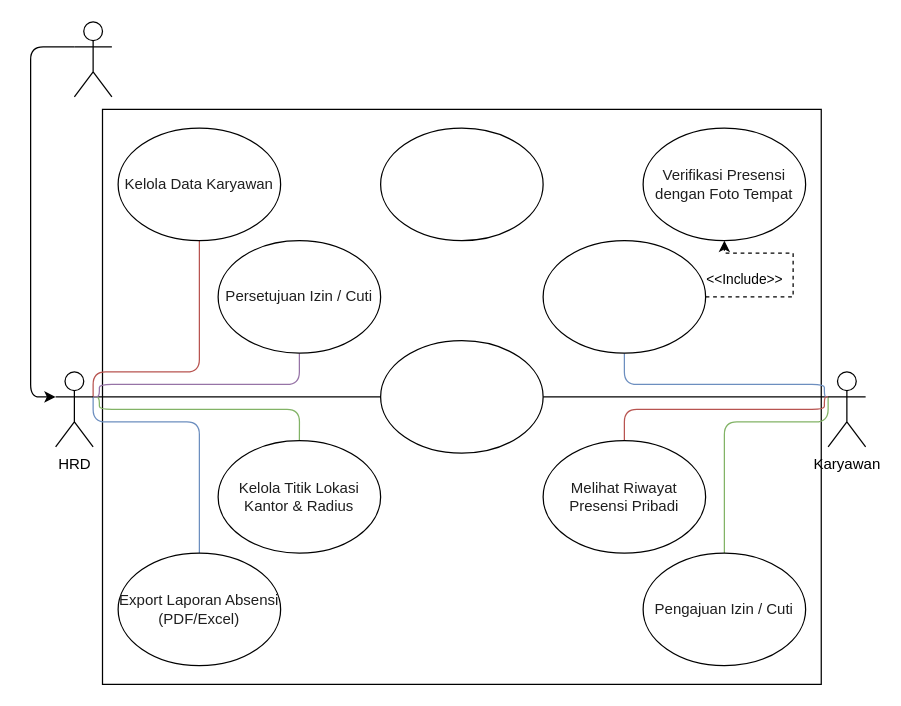
Some shapes in this 901 by 706 pixel diagram are drawn without their labels. Each missing label, with the box of its shape:
Login & Autentikasi: (379, 339, 543, 453)
Manajemen Sistem & Pengguna: (379, 127, 543, 241)
Super Admin: (73, 21, 112, 97)
Verifikasi Lokasi & Presensi (Masuk/Pulang): (542, 239, 706, 353)
